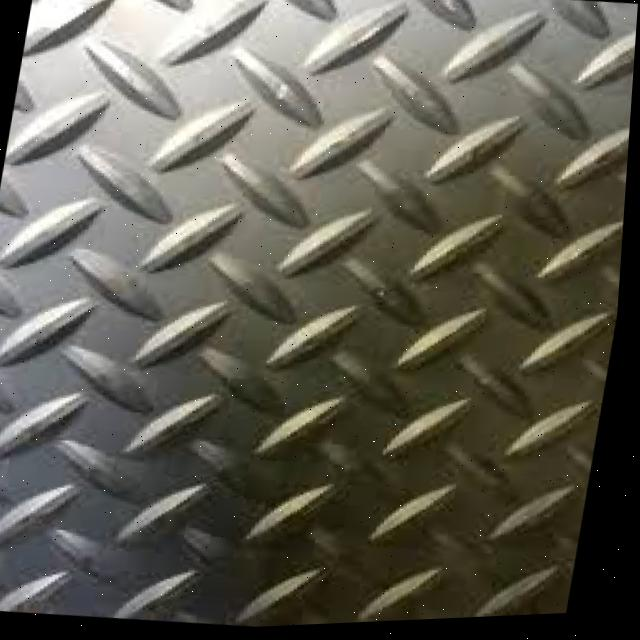Dry: (0, 14, 633, 626)
